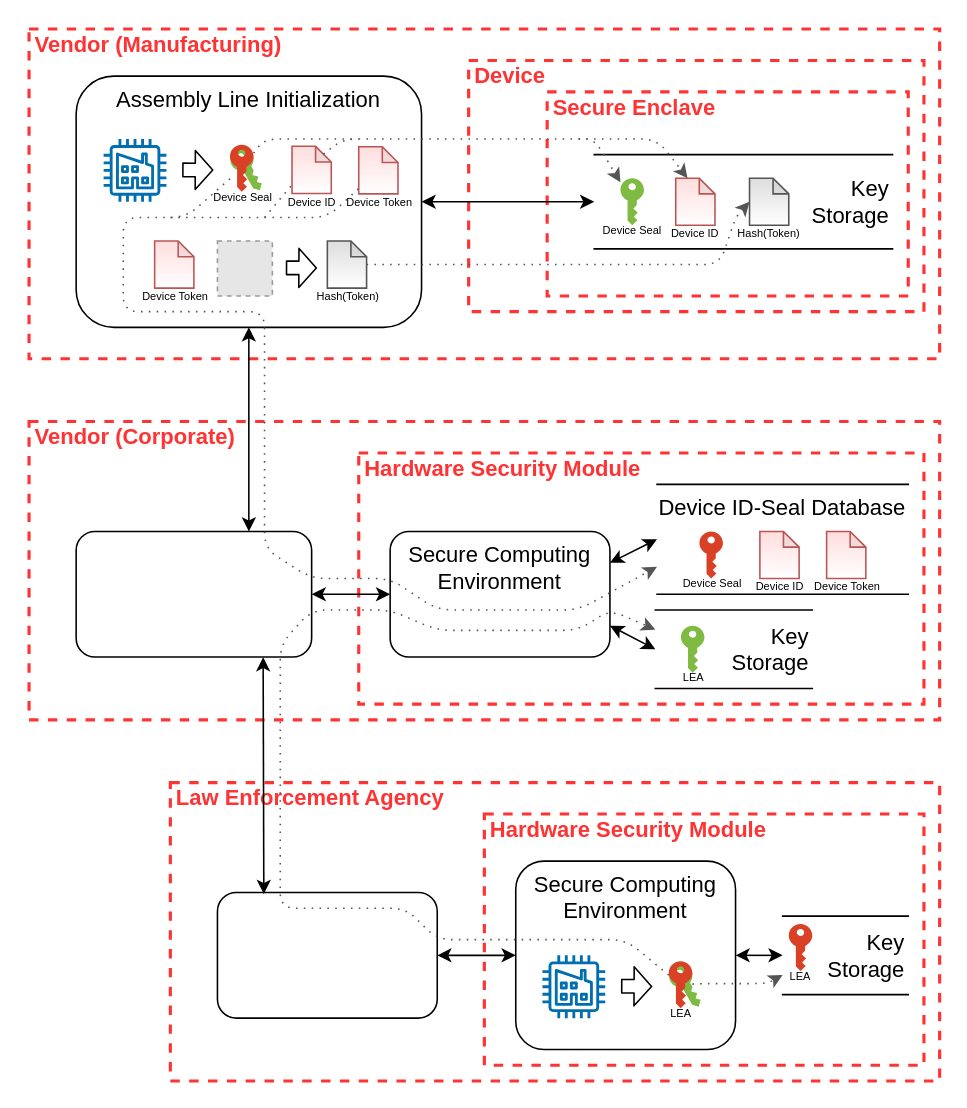
Image size: 967x1108. Some labels were removed from this diagram. Grey dashed boxes stand in for pictures. The centre of each missing label's shape, as x and y in pixels:
"Access Compliance Department" goes at point 193,593.
"Digital Forensics Department" goes at point 326,954.
